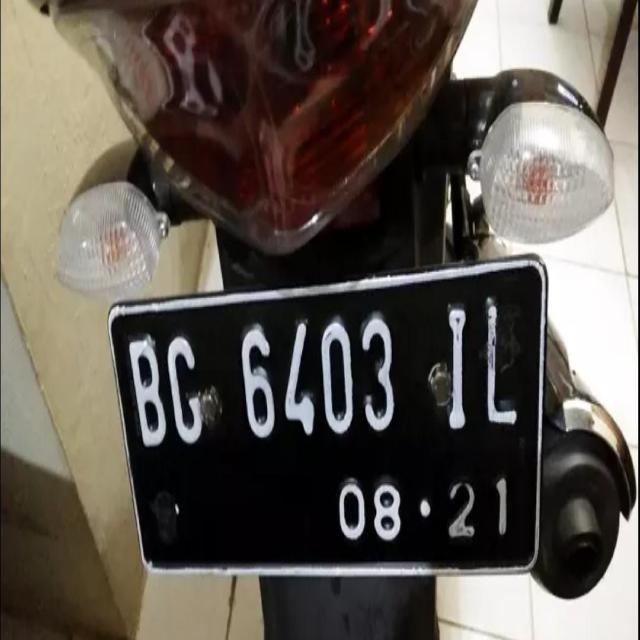plate: (122, 287, 550, 534)
